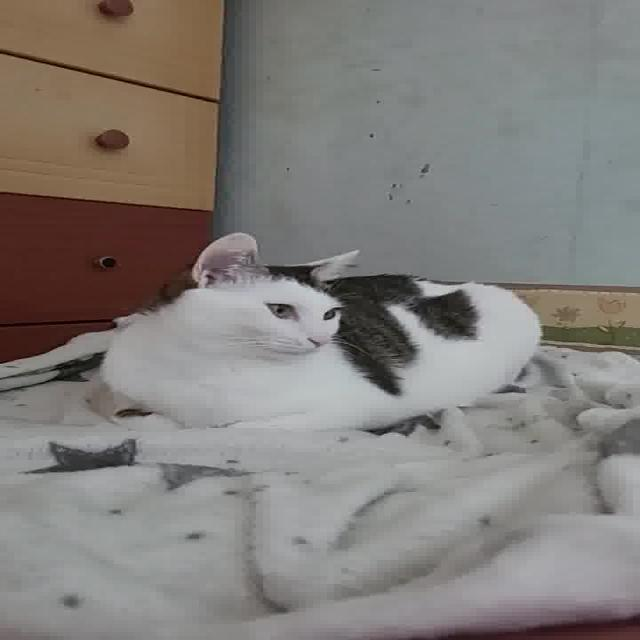cat: (107, 226, 547, 444)
